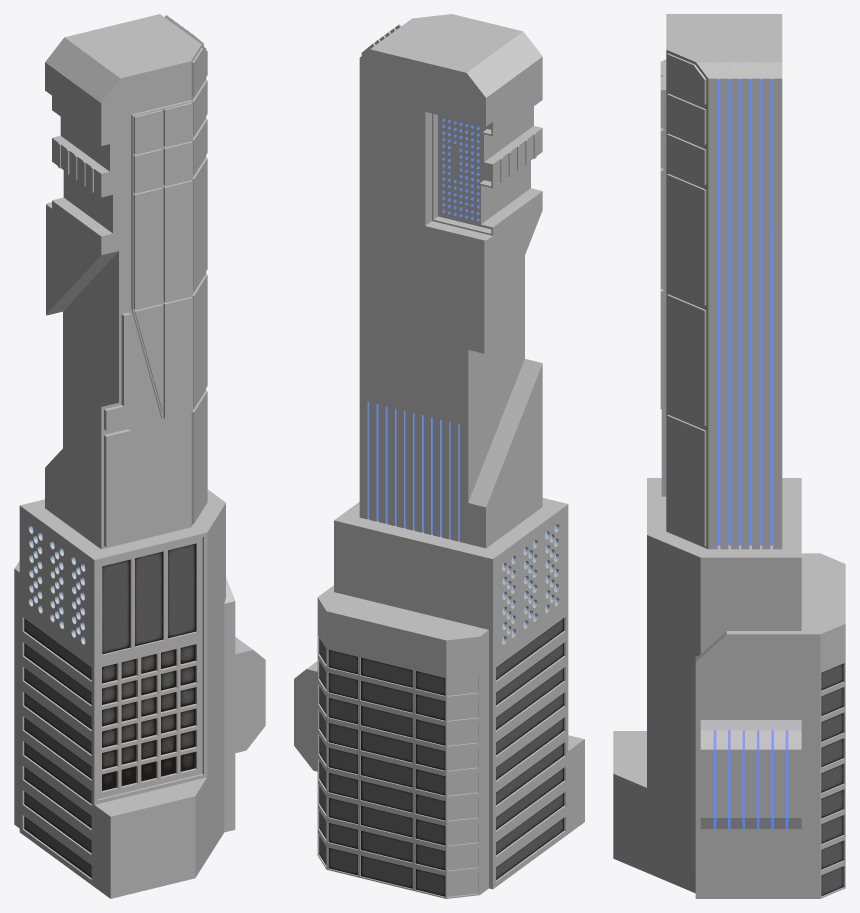
3 renders of one model, left to right at view 1: azimuth 30°, elevation 25°; view 2: azimuth 150°, elevation 25°; view 3: azimuth 270°, elevation 25°, orthographic. The views are drawn at different scales.
Visible parts, largest first — view 1: sc1; view 2: sc1; view 3: sc1.
Boxes of the visible parts, x1,y1,x2,y2 form: sc1: (14,14,265,898); sc1: (294,14,584,898); sc1: (613,14,845,898).
Bounding box in the file's own units: 25 × 96.45 × 24.68.
